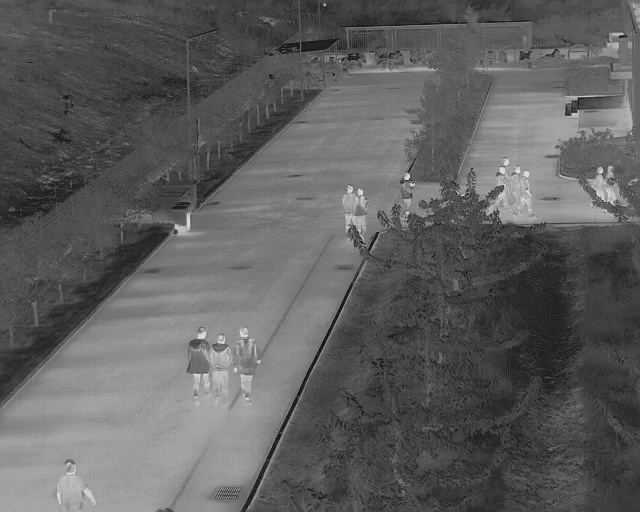person: (232, 322, 261, 409), (52, 456, 98, 509), (185, 324, 212, 407), (209, 333, 232, 407), (519, 170, 536, 217), (398, 171, 417, 208), (354, 188, 369, 231), (341, 181, 355, 225), (606, 164, 619, 203), (496, 166, 508, 206), (510, 163, 521, 205), (592, 164, 606, 189)
